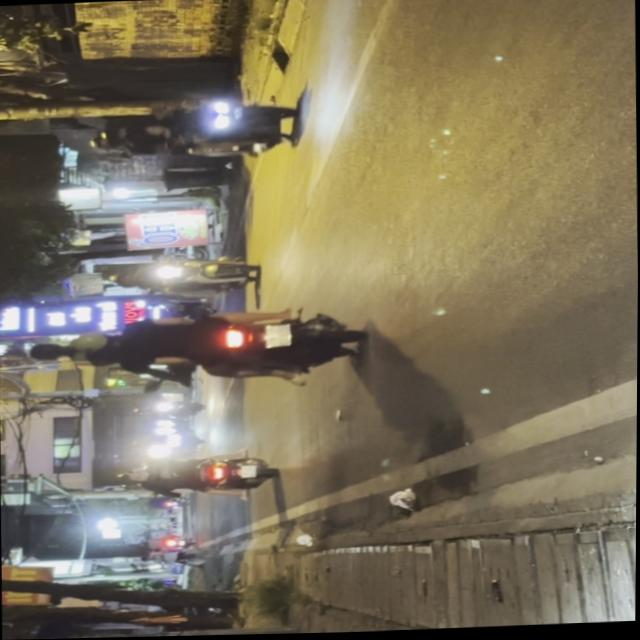helmet: (65, 331, 117, 365), (87, 126, 129, 152)
licenseplate: (55, 302, 362, 392), (84, 92, 299, 168)
motorcyclist: (24, 338, 69, 364)
nohelmet: (262, 324, 289, 347)
